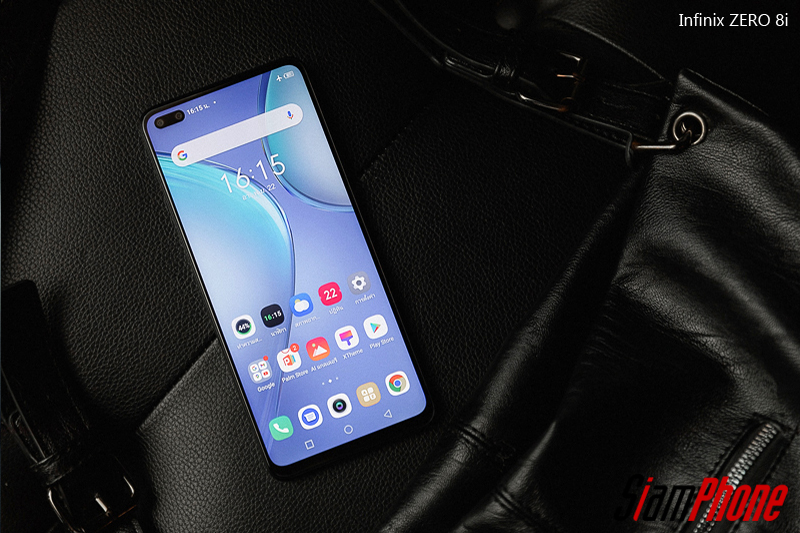phone: (137, 59, 436, 486)
